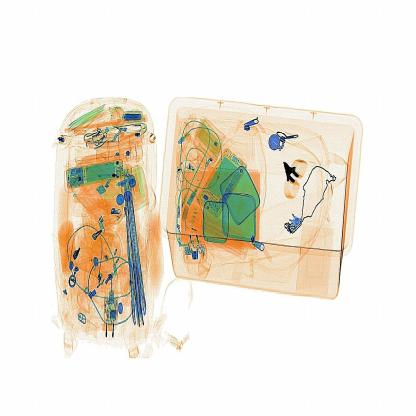gun: (274, 152, 311, 207)
